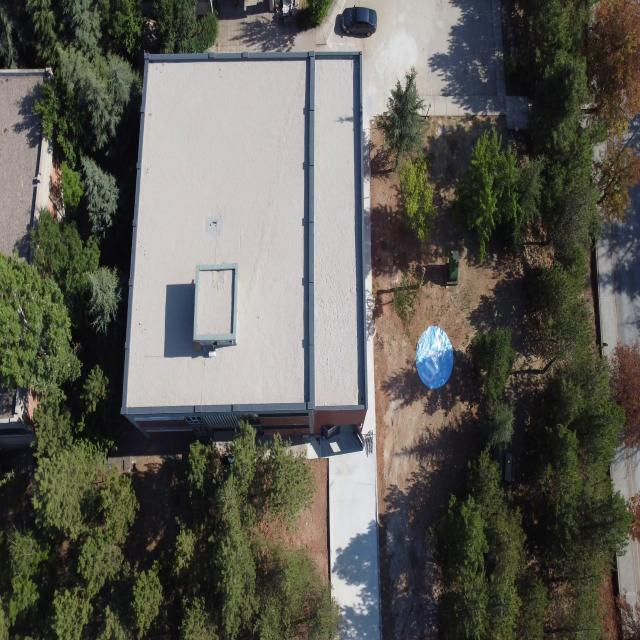vehicle: (416, 326, 452, 390), (341, 6, 378, 35)
